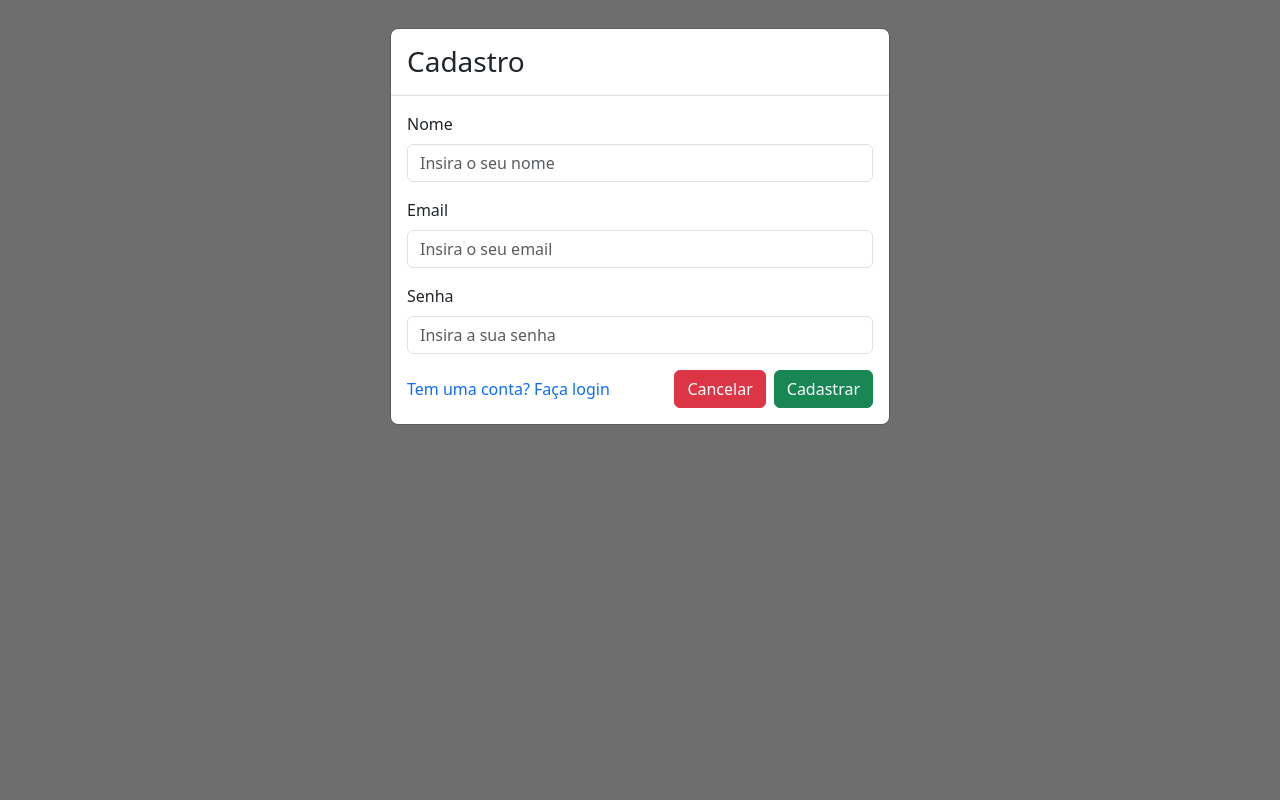
Test: RegisterUser › Should render error message of api
Type "test" into the field with placeholder "Insira o seu nome".
click(640, 163); type("test")  # box [407,144,873,182]
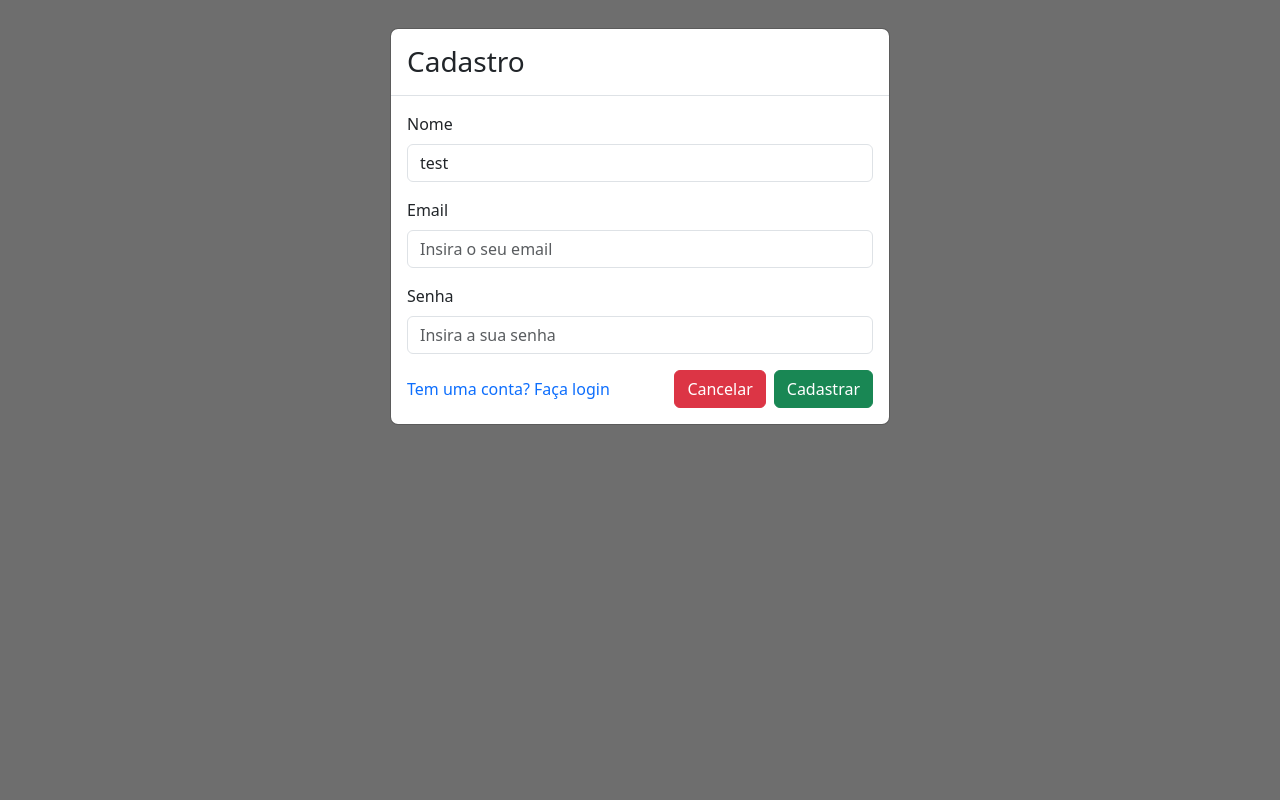
Type "test@example.com" into the field with placeholder "Insira o seu email".
click(640, 249); type("test@example.com")  # box [407,230,873,268]
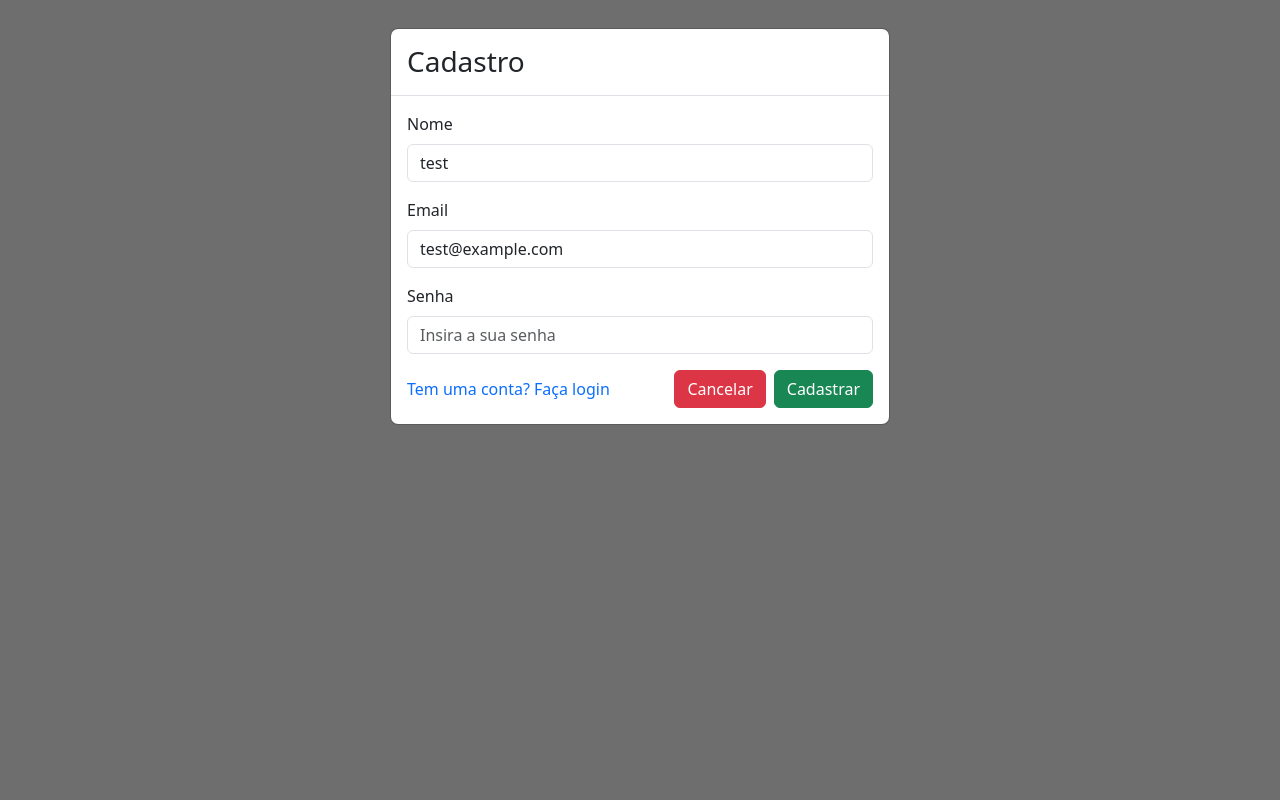
Type "Test123" into the password field with placeholder "Insira a sua senha".
click(640, 335); type("Test123")  # box [407,316,873,354]
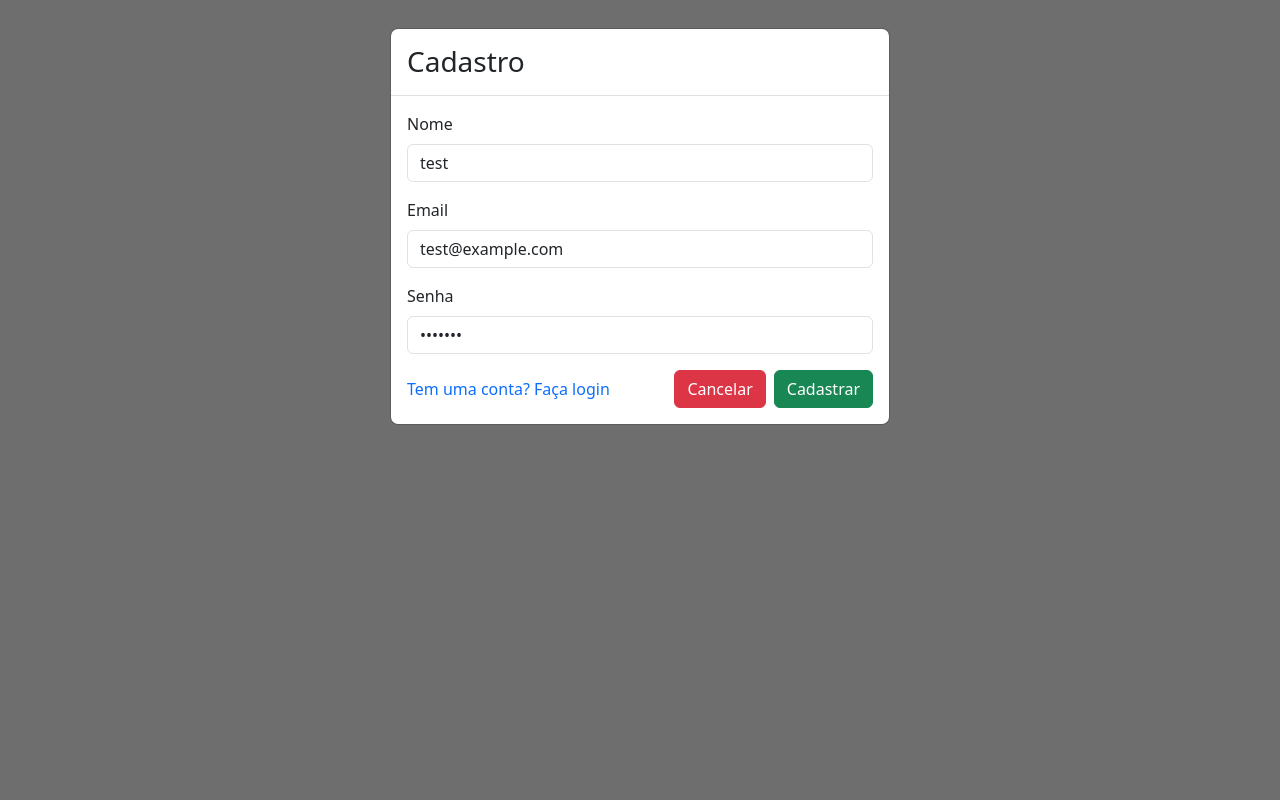
Click the button "Cadastrar".
click(823, 389)  # box [774,370,873,408]
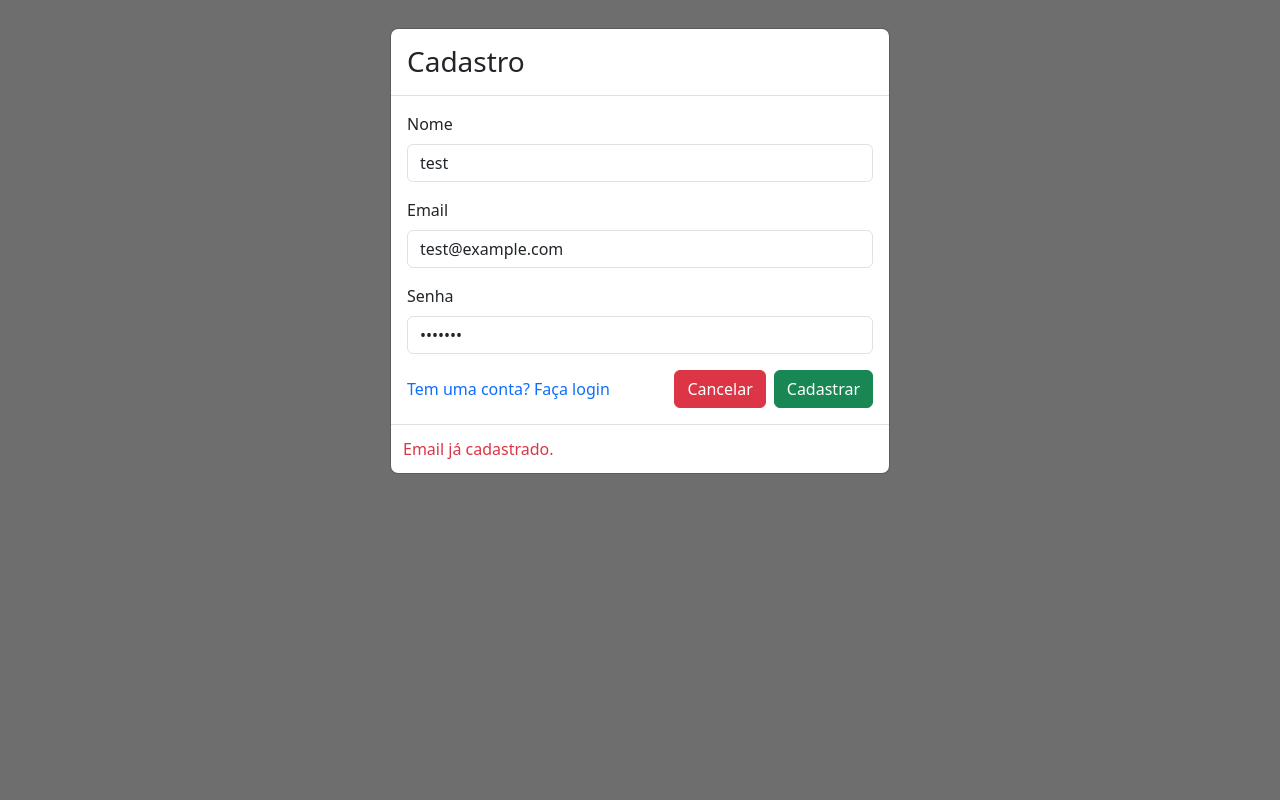
Now the text "Email já cadastrado." is shown, box [391,424,889,473]
